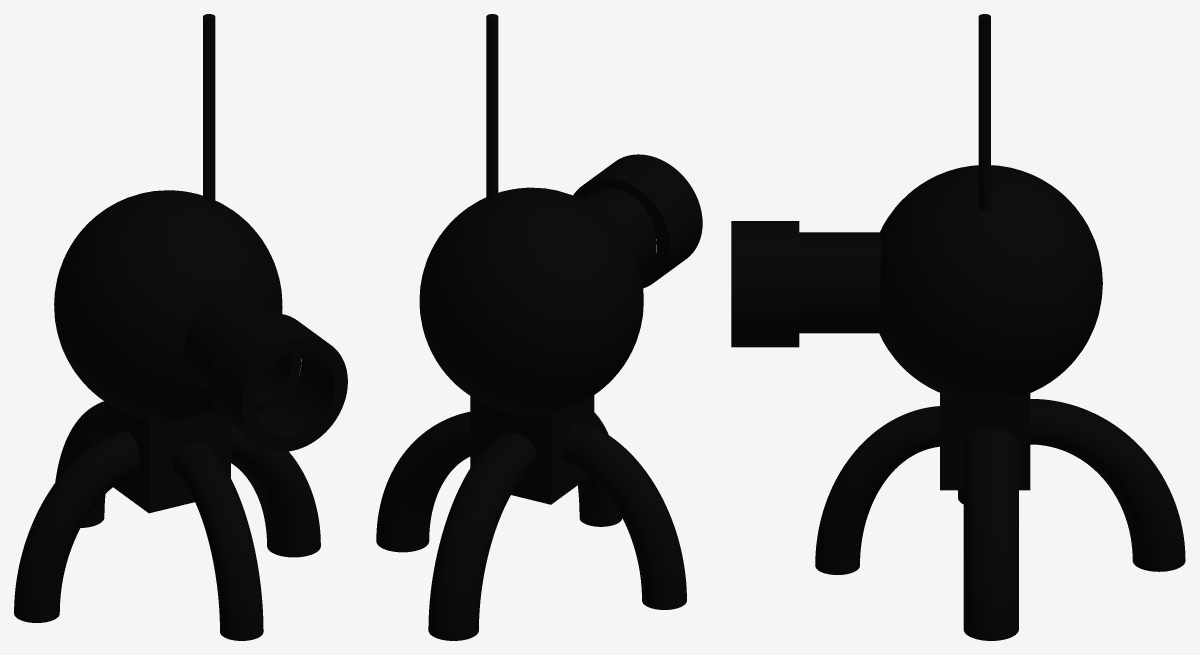
The model's file is LightSource.fbx.
The picture shows the model from 3 angles, left to right: view 1: azimuth 30°, elevation 25°; view 2: azimuth 150°, elevation 25°; view 3: azimuth 270°, elevation 25°; orthographic projection. The views are drawn at different scales.
Parts seen in each view (by area): view 1: node_id30, node_id46, node_id36, node_id40, node_id32, node_id34, node_id44, node_id38, node_id42; view 2: node_id30, node_id42, node_id36, node_id34, node_id46, node_id32, node_id44, node_id38, node_id40; view 3: node_id30, node_id34, node_id42, node_id46, node_id40, node_id44, node_id32, node_id38.
Boxes of the visible parts, x1,y1,x2,y2 form: node_id30: (54,190,282,420); node_id46: (208,313,347,451); node_id36: (14,430,139,622); node_id40: (173,441,263,640); node_id32: (105,402,230,513); node_id34: (231,424,320,557); node_id44: (184,293,301,412); node_id38: (203,14,215,203); node_id42: (55,401,105,527); node_id30: (419,187,643,414); node_id42: (428,432,537,640); node_id36: (563,421,686,609); node_id34: (376,411,470,552); node_id46: (573,154,702,288); node_id32: (470,395,594,504); node_id44: (583,187,656,274); node_id38: (486,14,498,199); node_id40: (578,412,622,526); node_id30: (879,165,1102,401); node_id34: (963,427,1018,640); node_id42: (1030,399,1185,571); node_id46: (731,221,799,347); node_id40: (815,406,939,574); node_id44: (799,232,881,333); node_id32: (940,393,1030,490); node_id38: (978,14,990,210).
Size of the model in its own units: 0.2953 by 0.512 by 0.3706.
Materials: 9 (9 with a texture image).
